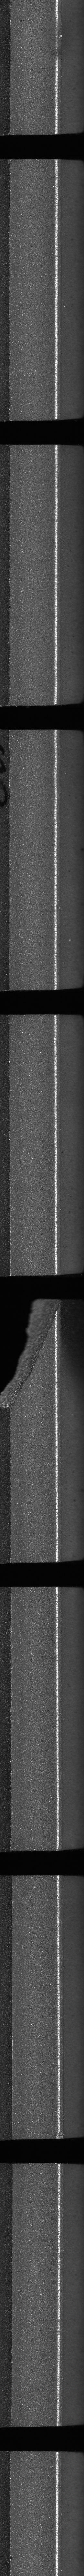Chip: (0, 1296, 64, 1414)
